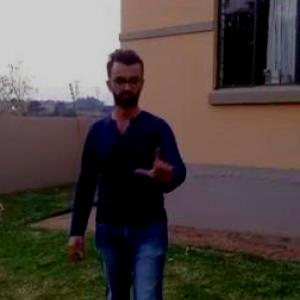land_hand: (131, 136, 182, 187)
